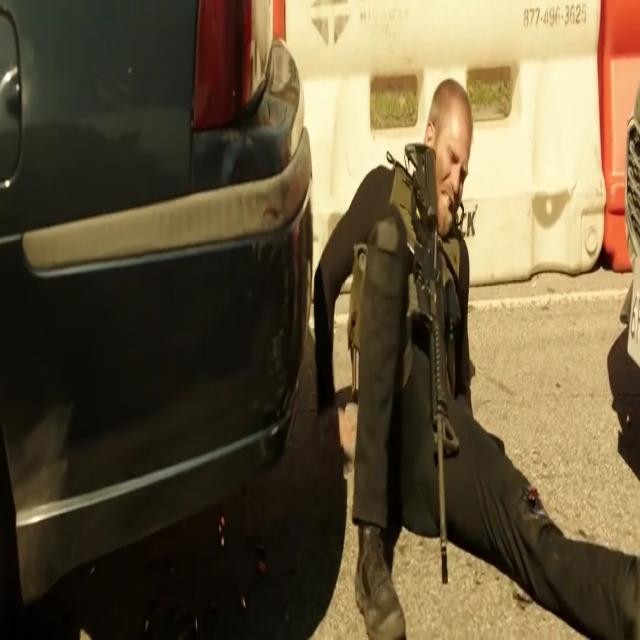Weapon: (411, 158, 474, 563)
